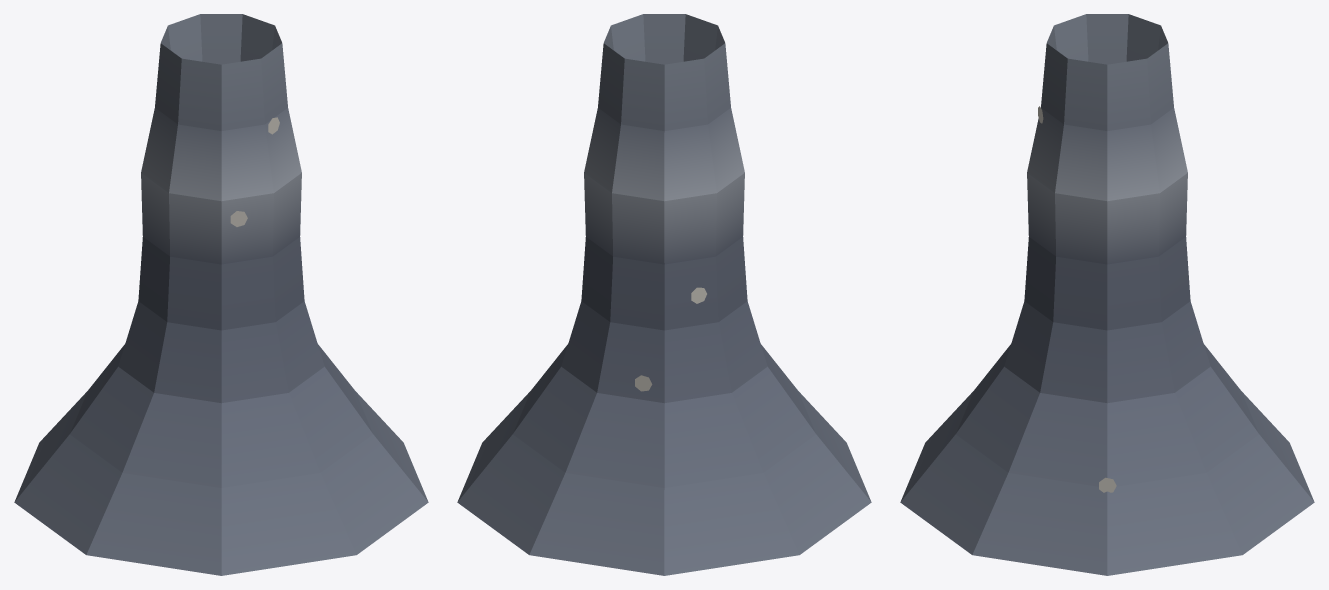
The model's file is buttress_v1.glb.
3 views of the same model, side by side, from view 1: azimuth 30°, elevation 25°; view 2: azimuth 150°, elevation 25°; view 3: azimuth 270°, elevation 25° (orthographic).
Parts seen in each view (by area): view 1: world; view 2: world; view 3: world.
Boxes of the visible parts, box(x1,y1,x2,y2) form: world: box(14, 14, 428, 575); world: box(457, 14, 871, 575); world: box(900, 14, 1314, 575).
Size of the model in its own units: 0.8246 by 1 by 0.8373.
